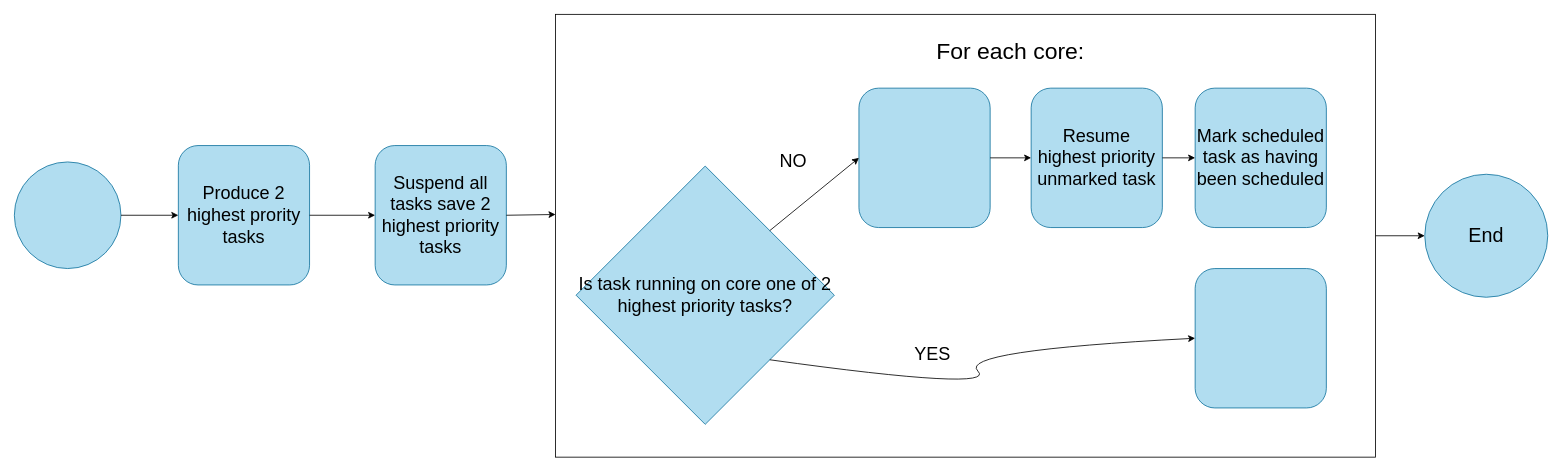
Image size: 1562x472. Some labels were removed from this diagram. Here are the shapes that lost their labels. From the top down, the centre of each, then its label:
At point (924, 157): "Produce highest prioritty task among unmarked tasks".
At point (67, 215): "Enter tick".
At point (1260, 338): "Do nothing".
